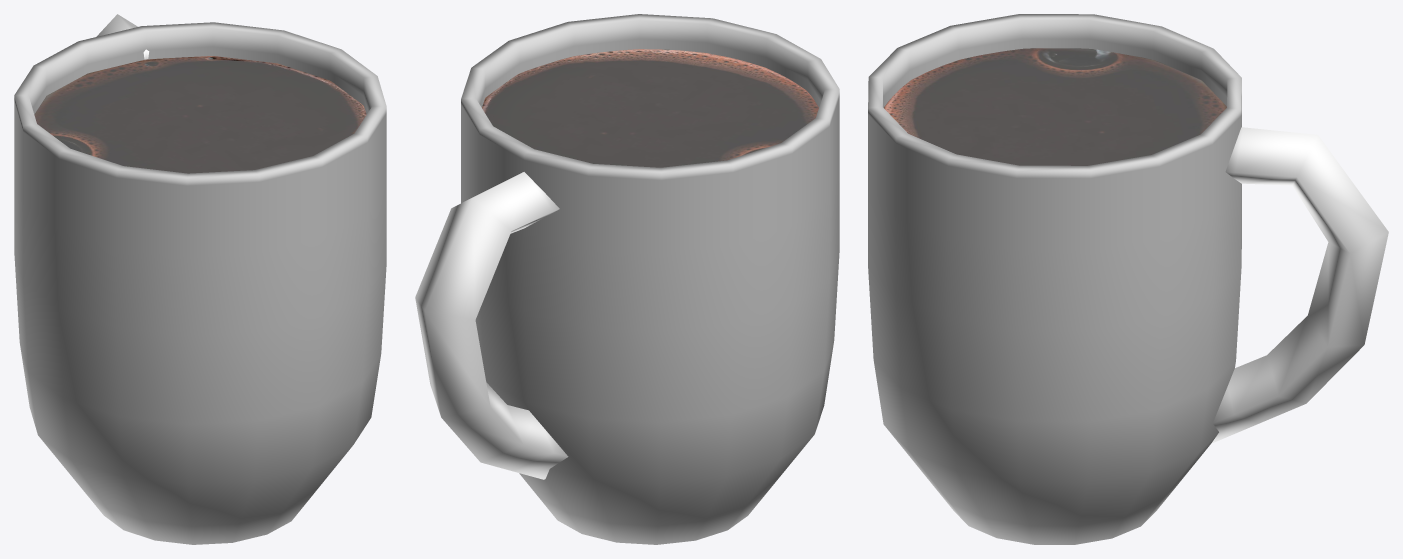
Rendered from coffeecup.gltf.
The picture shows the model from 3 angles, left to right: view 1: azimuth 30°, elevation 25°; view 2: azimuth 150°, elevation 25°; view 3: azimuth 270°, elevation 25°; orthographic projection.
Visible parts, largest first — view 1: Circle_3, Circle_1, Circle_2; view 2: Circle_3, Circle_1, Circle_2; view 3: Circle_3, Circle_1, Circle_2.
Boxes of the visible parts, left/top/right/bottom form: Circle_3: left=14, top=22, right=386, bottom=544; Circle_1: left=34, top=56, right=366, bottom=173; Circle_2: left=96, top=14, right=149, bottom=59; Circle_3: left=461, top=14, right=839, bottom=544; Circle_1: left=482, top=49, right=818, bottom=167; Circle_2: left=415, top=172, right=568, bottom=479; Circle_3: left=868, top=14, right=1241, bottom=544; Circle_1: left=884, top=48, right=1226, bottom=165; Circle_2: left=1212, top=127, right=1388, bottom=442.
Size of the model in its own units: 2 by 2.41 by 2.78.
Materials: 4 (1 with a texture image).
